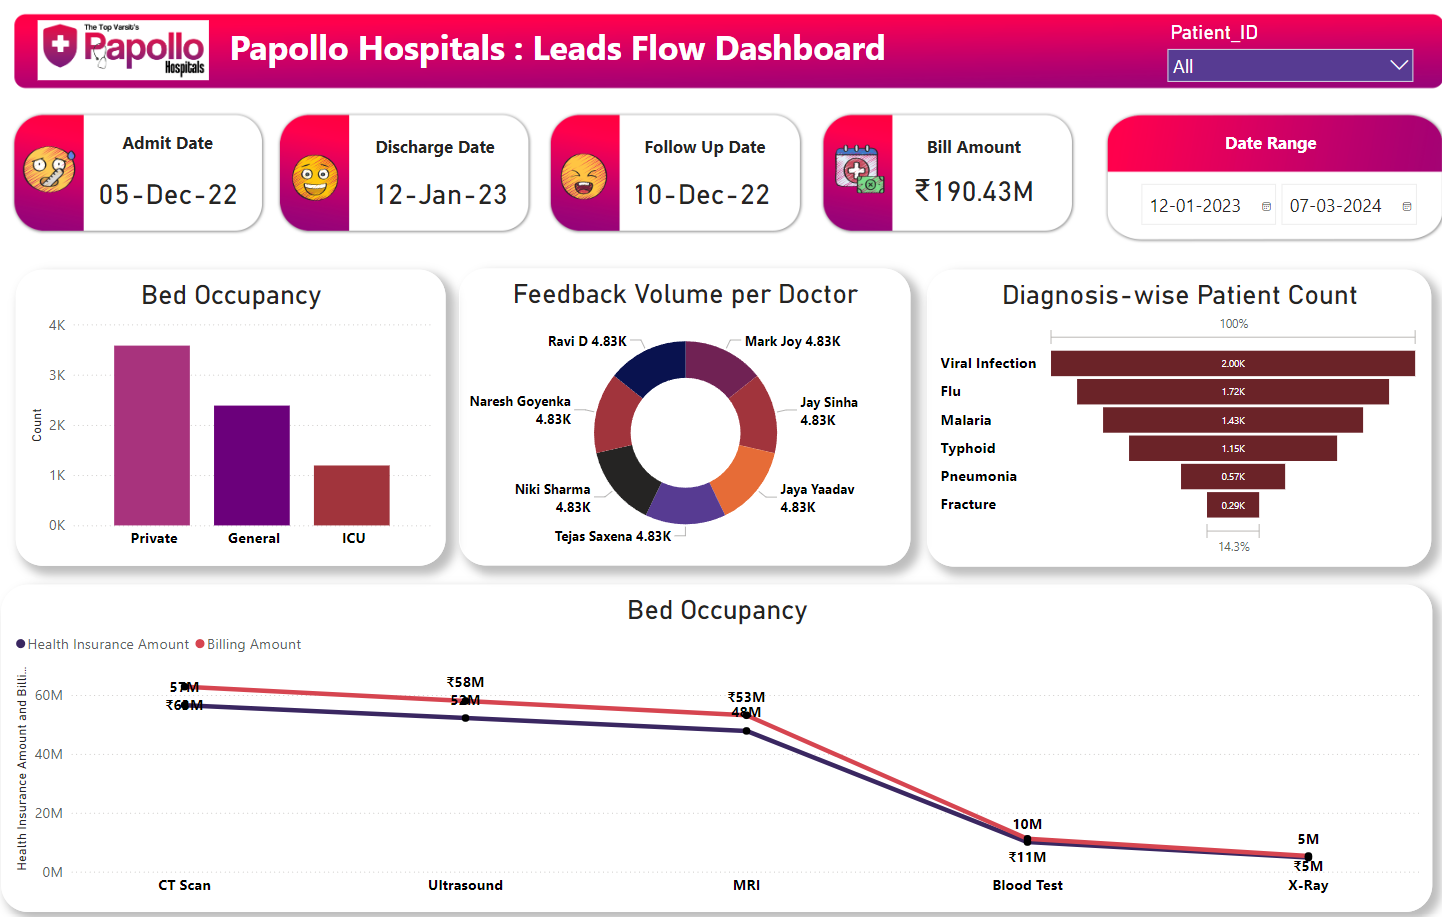

The page's visual inventory and layout, read from the dashboard file:
{"tool":"powerbi","page":{"name":"Page 2","canvas":[1680,1050],"ordinal":0},"visuals":[{"type":"textbox","box":[280,27.1,755.7,74.3],"z":0},{"type":"image","box":[2636.7,100,623.3,150],"z":1000},{"type":"slicer","fields":{"Values":["Sheet1.Patient_ID"]},"box":[2400,373.3,793.3,420],"z":2000},{"type":"card","fields":{"Values":["Sheet1.Admit_Date"]},"box":[437.6,198.8,162.9,42.8],"z":3000},{"type":"card","fields":{"Values":["Sheet1.Discharge_Date"]},"box":[129.8,198.8,172.6,42.8],"z":4000},{"type":"card","fields":{"Values":["Sheet1.Followup Date"]},"box":[724.3,198.6,167.1,42.9],"z":5000},{"type":"textbox","box":[140.4,145,161.8,58],"z":6000},{"type":"textbox","box":[410.5,145,210.6,44.3],"z":7000},{"type":"textbox","box":[706.6,145,219.8,44.3],"z":8000},{"type":"textbox","box":[1016.4,145,198.4,44.3],"z":9000},{"type":"card","fields":{"Values":["Sheet1.Billing Amount"]},"box":[1031.4,194.3,158.6,42.9],"z":10000},{"type":"image","box":[50,157.1,68.6,74.3],"z":11000},{"type":"image","box":[348.6,172.9,62.9,62.9],"z":12000},{"type":"image","box":[640,171.4,77.1,62.9],"z":13000},{"type":"image","box":[951.4,158.6,65.7,71.4],"z":14000},{"type":"columnChart","title":"Bed Occupancy","fields":{"Category":["Sheet1.Bed_Occupancy"],"Y":["Sheet1.Bed_Occupancy"]},"box":[47.1,305.7,477.1,328.6],"z":15000},{"type":"donutChart","title":"Feedback Volume per Doctor","fields":{"Category":["Sheet1.Doctor"],"Y":["Sheet1.Feedback"]},"box":[540.2,305.2,501,329.5],"z":16000},{"type":"funnel","title":"Diagnosis-wise Patient Count","fields":{"Category":["Sheet1.Diagnosis"],"Y":["Sheet1.Diagnosis"]},"box":[1062.2,302.2,558.6,331.2],"z":17000},{"type":"image","box":[30,24.3,274.3,77.1],"z":18000},{"type":"lineChart","title":"Bed Occupancy","fields":{"Y":["Sheet1.Health Insurance Amount","Sheet1.Billing Amount"],"Category":["Sheet1.Test"]},"box":[31.1,656.3,1589.5,363.3],"z":19000},{"type":"slicer","fields":{"Values":["Sheet1.Admit_Date"]},"box":[1284.3,201.2,360.6,68.9],"z":20000},{"type":"slicer","fields":{"Values":["Sheet1.Patient_ID"]},"box":[1317.1,24.3,292.9,82.9],"z":21000},{"type":"textbox","box":[1365.7,145.7,151.4,37.1],"z":22000}]}

Visuals, with their boxes on the page's 1680x1050 design canvas (x1, y1, x2, y2). These are canvas units, not pixel positions in the 1442x917 screenshot, which may show the page scaled, cropped or inside an application window:
textbox: bbox=(280, 27, 1036, 101)
image: bbox=(2637, 100, 3260, 250)
slicer - Sheet1.Patient_ID: bbox=(2400, 373, 3193, 793)
card - Sheet1.Admit_Date: bbox=(438, 199, 600, 242)
card - Sheet1.Discharge_Date: bbox=(130, 199, 302, 242)
card - Sheet1.Followup Date: bbox=(724, 199, 891, 242)
textbox: bbox=(140, 145, 302, 203)
textbox: bbox=(410, 145, 621, 189)
textbox: bbox=(707, 145, 926, 189)
textbox: bbox=(1016, 145, 1215, 189)
card - Sheet1.Billing Amount: bbox=(1031, 194, 1190, 237)
image: bbox=(50, 157, 119, 231)
image: bbox=(349, 173, 412, 236)
image: bbox=(640, 171, 717, 234)
image: bbox=(951, 159, 1017, 230)
"Bed Occupancy" columnChart: bbox=(47, 306, 524, 634)
"Feedback Volume per Doctor" donutChart: bbox=(540, 305, 1041, 635)
"Diagnosis-wise Patient Count" funnel: bbox=(1062, 302, 1621, 633)
image: bbox=(30, 24, 304, 101)
"Bed Occupancy" lineChart: bbox=(31, 656, 1621, 1020)
slicer - Sheet1.Admit_Date: bbox=(1284, 201, 1645, 270)
slicer - Sheet1.Patient_ID: bbox=(1317, 24, 1610, 107)
textbox: bbox=(1366, 146, 1517, 183)
